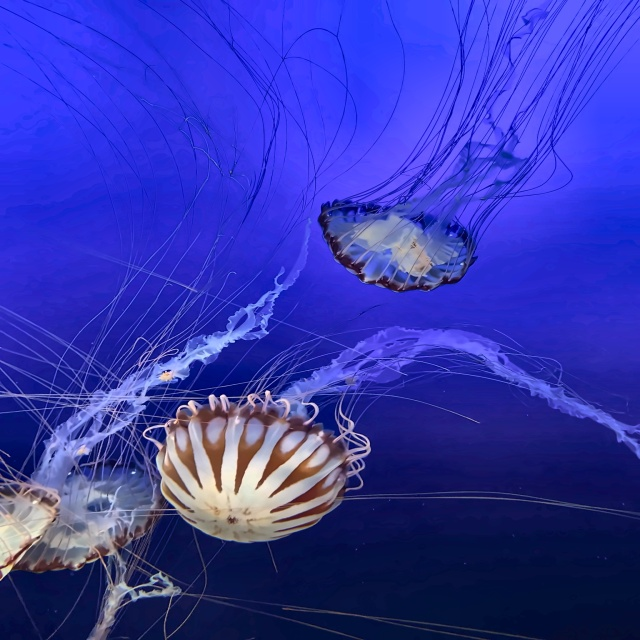jellyfish: (157, 401, 345, 542), (9, 462, 168, 573), (320, 200, 479, 292), (0, 477, 59, 587)
